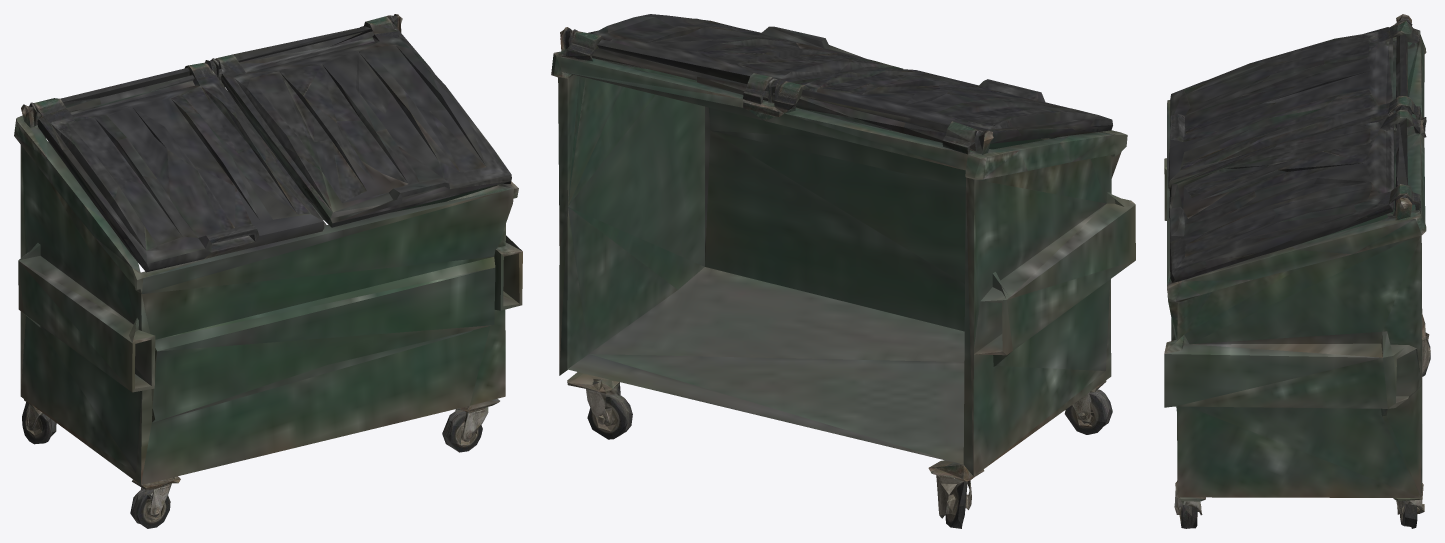
File: prop-dumpster.glb
3 views of the same model, side by side, from view 1: azimuth 30°, elevation 25°; view 2: azimuth 150°, elevation 25°; view 3: azimuth 270°, elevation 25° (orthographic). The views are drawn at different scales.
Parts seen in each view (by area): view 1: output_unwrapped; view 2: output_unwrapped; view 3: output_unwrapped.
Part boxes in pixels (box(x1,y1,x2,y2)): output_unwrapped: box(14, 14, 522, 528); output_unwrapped: box(551, 14, 1135, 528); output_unwrapped: box(1164, 14, 1430, 528).
Size of the model in its own units: 1.9 by 1.6 by 1.1.
1 material, 1 textured.
